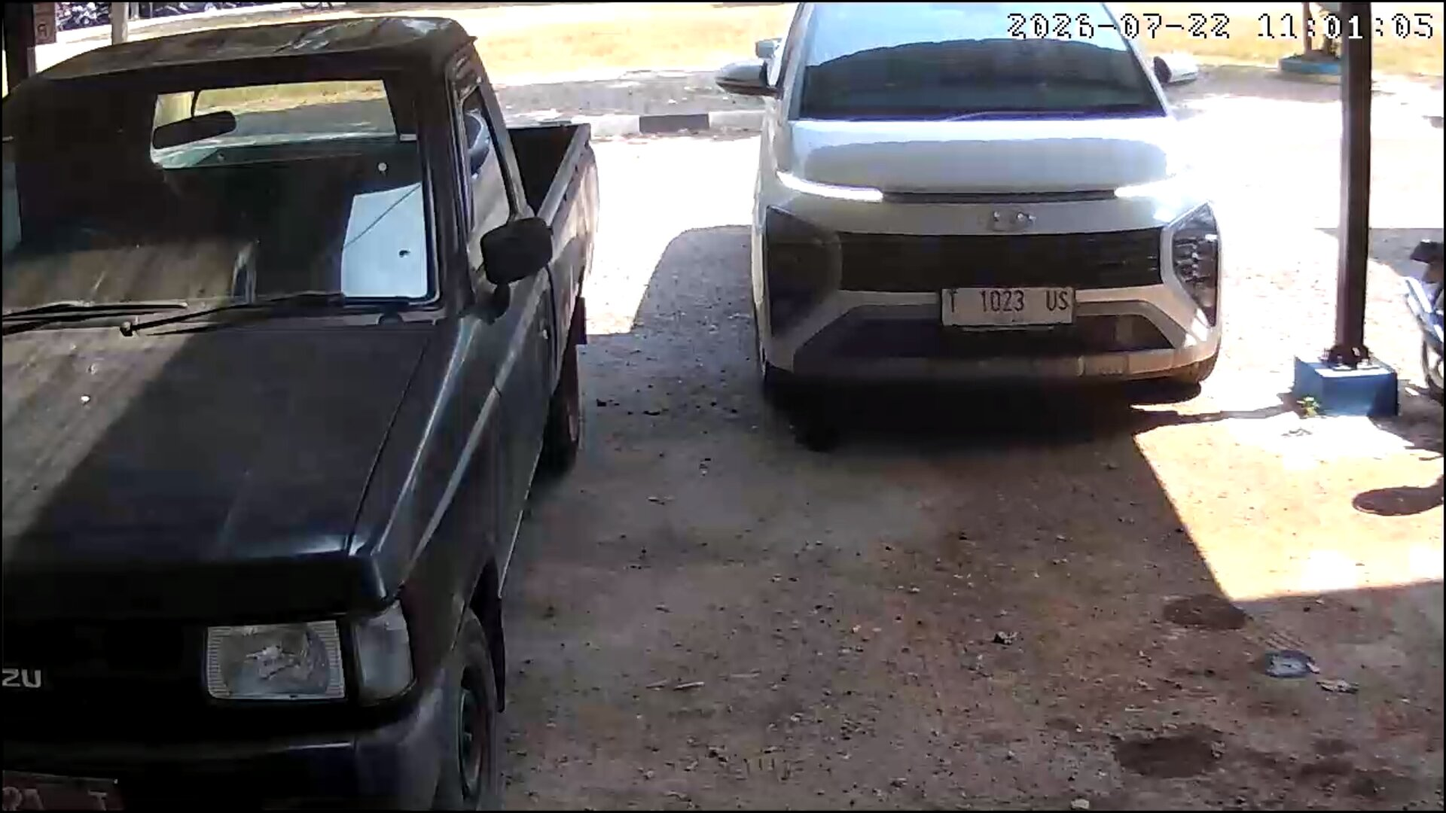plat nomor: (940, 287, 1073, 328)
